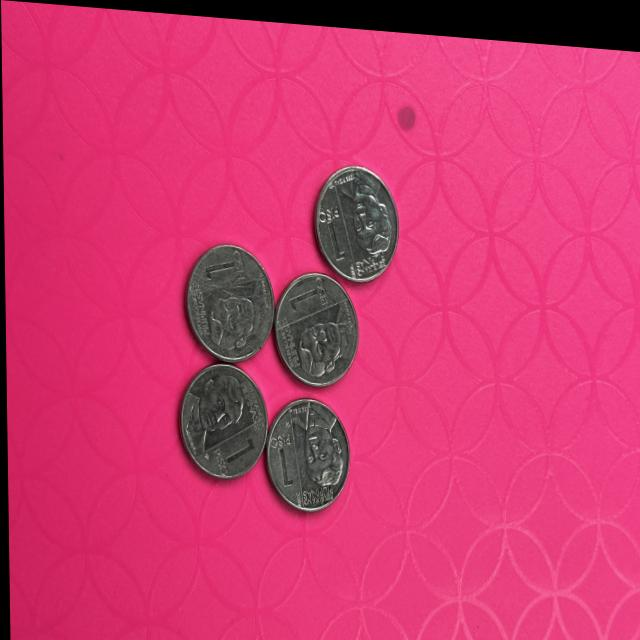1_New_Front: (203, 425, 258, 471), (315, 200, 353, 262), (202, 241, 252, 282), (267, 426, 297, 488), (287, 266, 332, 307)
